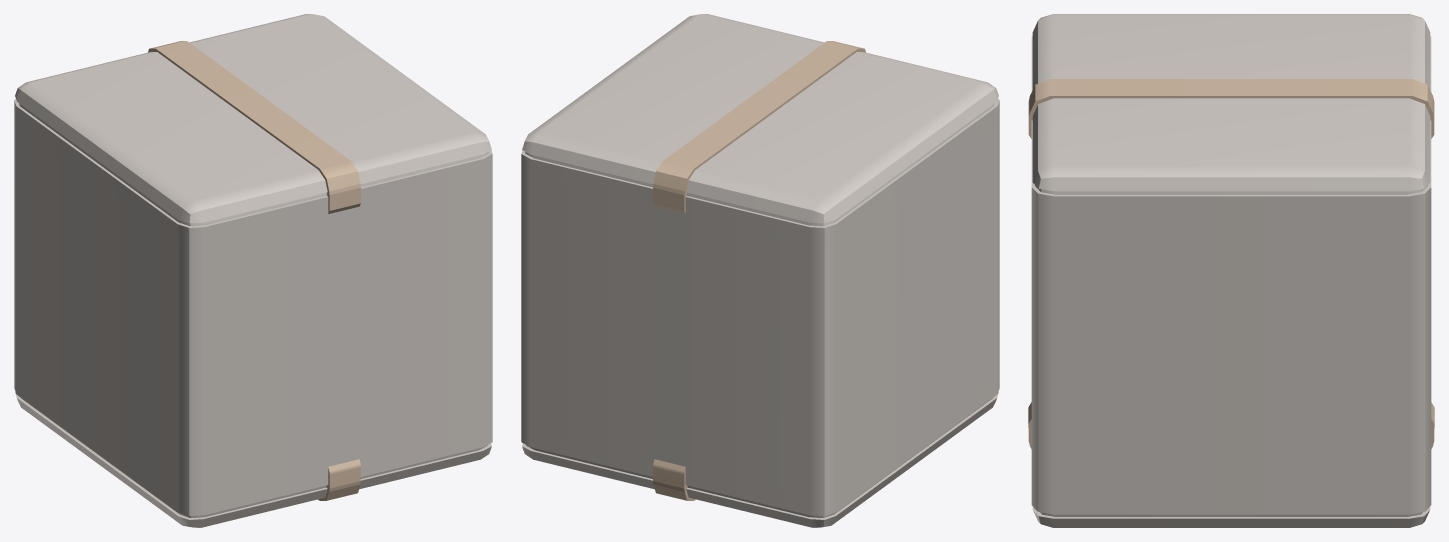
File: CajaBlanca.fbx
3 views of the same model, side by side, from view 1: azimuth 30°, elevation 25°; view 2: azimuth 150°, elevation 25°; view 3: azimuth 270°, elevation 25° (orthographic). The views are drawn at different scales.
Visible parts, largest first — view 1: CajaBlanca_high; view 2: CajaBlanca_high; view 3: CajaBlanca_high.
Boxes of the visible parts, <box> form: CajaBlanca_high: <box>14,14,492,527</box>; CajaBlanca_high: <box>521,14,999,527</box>; CajaBlanca_high: <box>1028,14,1434,527</box>.
Size of the model in its own units: 2.47 by 2.51 by 2.52.
